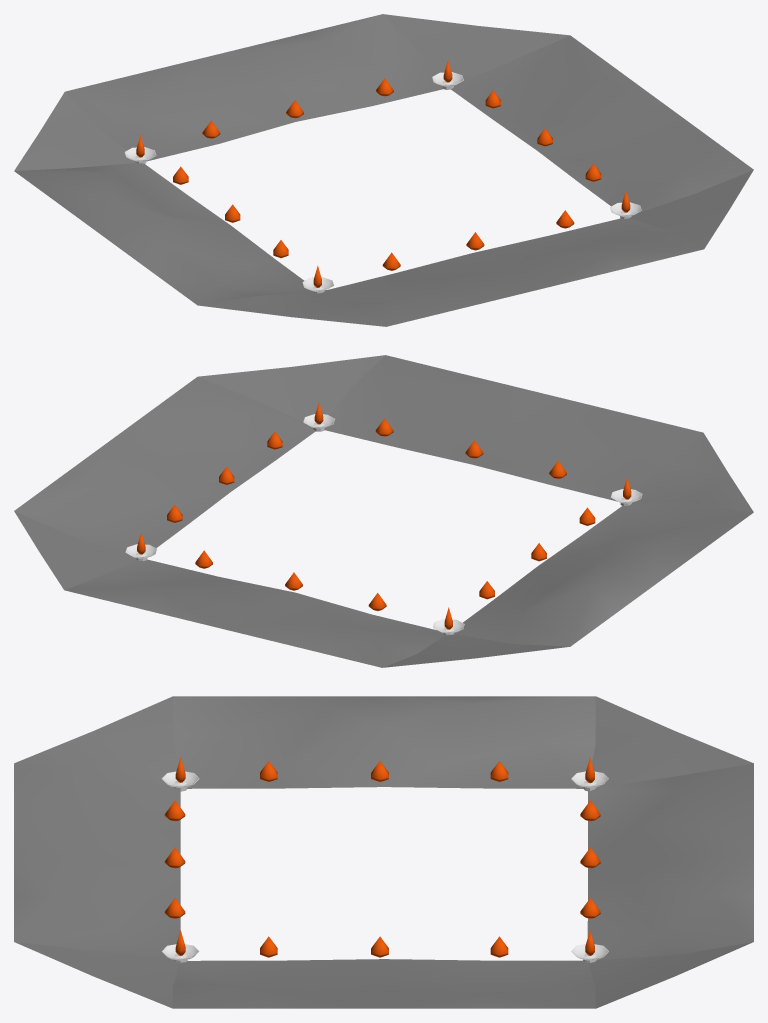
Rendered from Бекграунд.FBX.
3 renders of one model, top to bottom at view 1: azimuth 30°, elevation 25°; view 2: azimuth 150°, elevation 25°; view 3: azimuth 270°, elevation 25°, orthographic. The views are drawn at different scales.
Parts seen in each view (by area): view 1: Object012; view 2: Object012; view 3: Object012.
Boxes of the visible parts, <box> form: Object012: <box>14,14,753,326</box>; Object012: <box>14,355,753,667</box>; Object012: <box>14,696,753,1008</box>.
Size of the model in its own units: 2437 by 125 by 2438.
